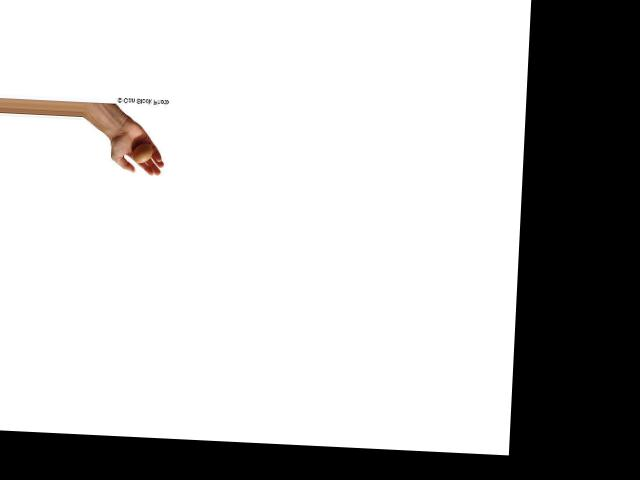egg: (133, 142, 154, 162)
